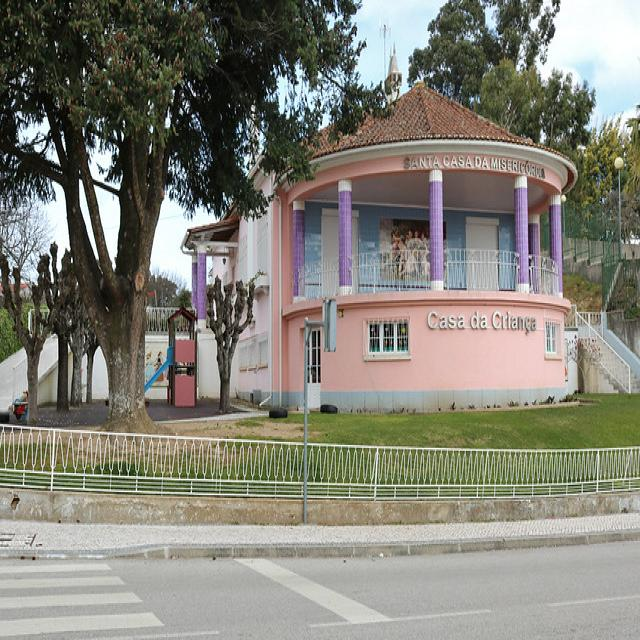building: (162, 77, 582, 418)
